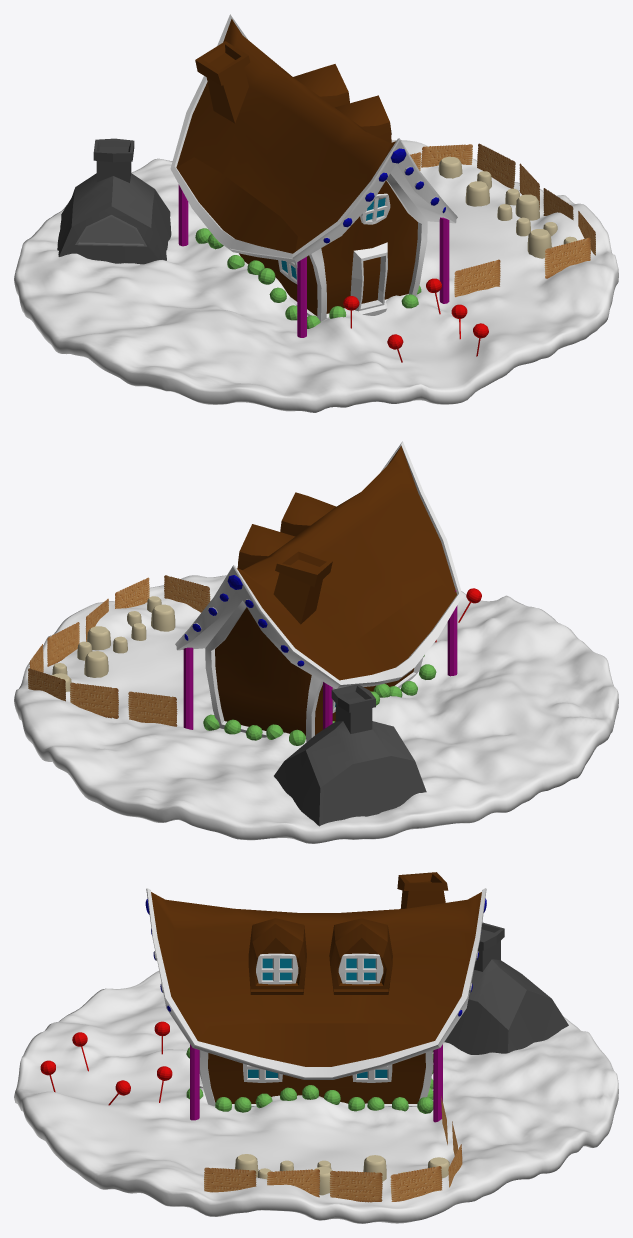
The model's file is LKHF.fbx.
The picture shows the model from 3 angles, top to bottom: view 1: azimuth 30°, elevation 25°; view 2: azimuth 150°, elevation 25°; view 3: azimuth 270°, elevation 25°; orthographic projection.
Parts seen in each view (by area): view 1: pDisc1, polySurface9, pCylinder6, pPlane1, pPlane2, pPlane6, pPlane9, pCylinder8, pPlane4, pCylinder9, pCylinder10; view 2: pDisc1, polySurface9, pCylinder6, pPlane7, pPlane8, pPlane2, pPlane5, pPlane9, pPlane3, pCylinder8, pCylinder9; view 3: pDisc1, polySurface9, pCylinder6, pPlane5, pPlane6, pPlane3, pPlane4.
Part boxes in pixels (x1,y1,x2,y2): pDisc1: (14, 140, 618, 412); polySurface9: (170, 14, 457, 337); pCylinder6: (57, 138, 171, 264); pPlane1: (454, 259, 500, 297); pPlane2: (544, 237, 590, 278); pPlane6: (477, 143, 515, 188); pPlane9: (421, 144, 472, 167); pCylinder8: (527, 229, 551, 258); pPlane4: (543, 188, 573, 220); pCylinder9: (465, 181, 489, 206); pCylinder10: (515, 194, 539, 220); pDisc1: (14, 575, 618, 843); polySurface9: (175, 441, 462, 742); pCylinder6: (274, 684, 426, 826); pPlane7: (128, 691, 177, 726); pPlane8: (70, 682, 118, 718); pPlane2: (164, 575, 210, 612); pPlane5: (47, 622, 79, 666); pPlane9: (28, 668, 65, 701); pPlane3: (115, 577, 149, 608); pCylinder8: (151, 604, 175, 631); pCylinder9: (84, 651, 108, 677); pDisc1: (14, 971, 618, 1223); polySurface9: (145, 872, 486, 1122); pCylinder6: (444, 922, 568, 1054); pPlane5: (329, 1171, 382, 1202); pPlane6: (390, 1166, 442, 1201); pPlane3: (204, 1167, 256, 1192); pPlane4: (267, 1169, 319, 1197).
Bounding box in the file's own units: 27.68 × 11.01 × 27.68.
Materials: 13 (1 with a texture image).
